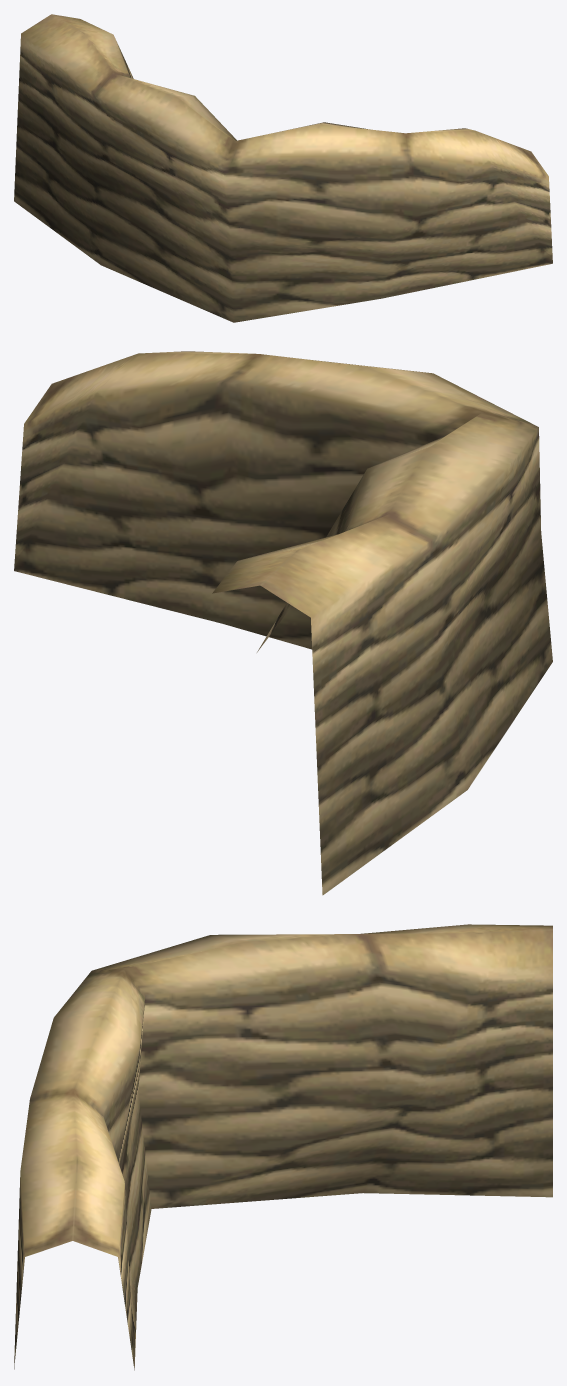
File: Sandbags2_High2Med_Corner2.glb
3 renders of one model, top to bottom at view 1: azimuth 30°, elevation 25°; view 2: azimuth 150°, elevation 25°; view 3: azimuth 270°, elevation 25°, orthographic. The views are drawn at different scales.
Visible parts, largest first — view 1: SANDBAGS2_HIGH2MED_CORNER2; view 2: SANDBAGS2_HIGH2MED_CORNER2; view 3: SANDBAGS2_HIGH2MED_CORNER2.
Boxes of the visible parts, x1,y1,x2,y2 form: SANDBAGS2_HIGH2MED_CORNER2: (14,14,552,322); SANDBAGS2_HIGH2MED_CORNER2: (14,351,552,895); SANDBAGS2_HIGH2MED_CORNER2: (14,924,552,1370).
Size of the model in its own units: 2.27 by 1.13 by 2.29.
1 material, 1 textured.
